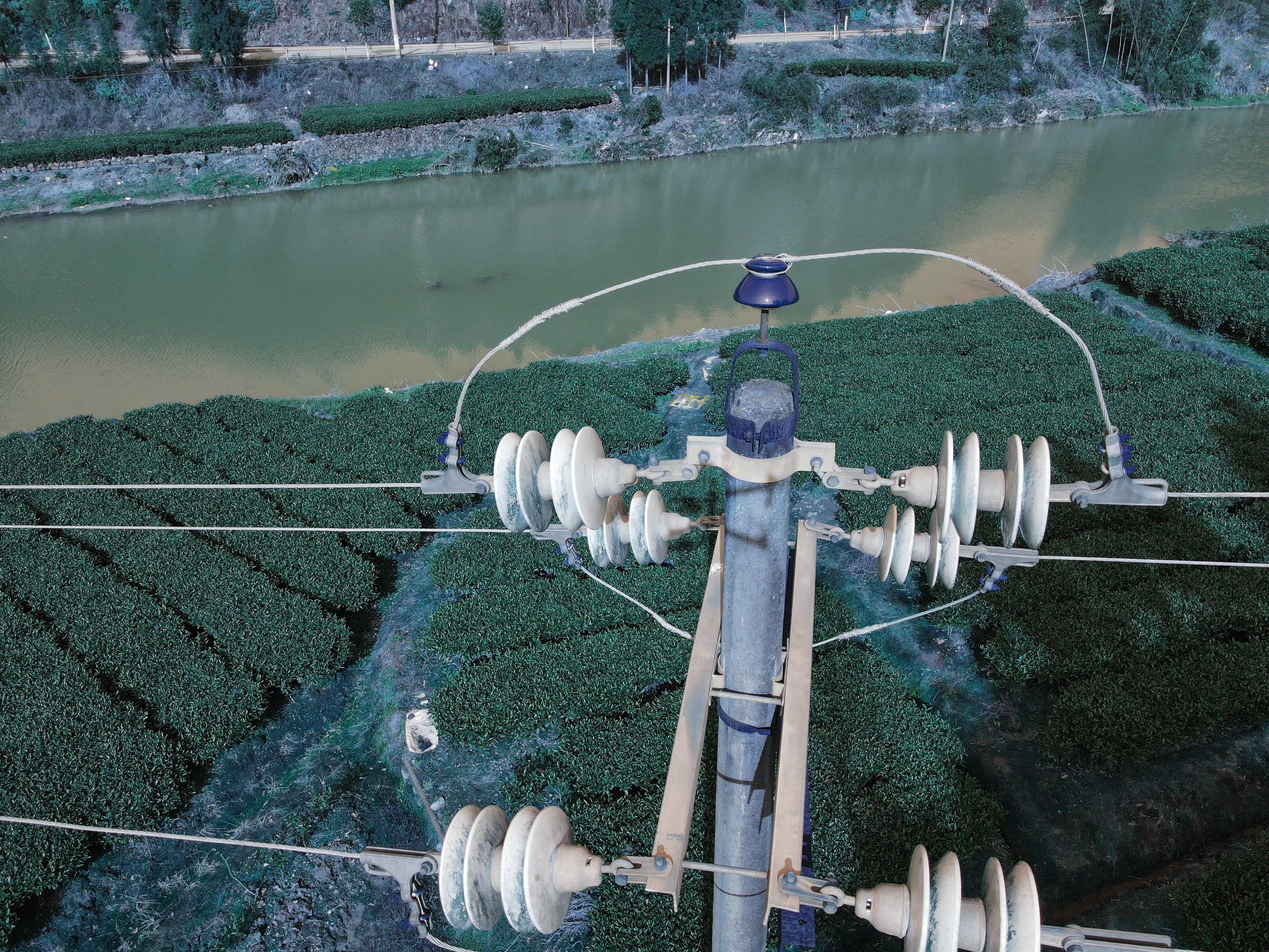severe_soiling_no_discharge_whole: (428, 797, 605, 937), (889, 426, 1056, 554), (857, 844, 1046, 946), (489, 424, 636, 535), (854, 500, 964, 590), (584, 487, 693, 569)
